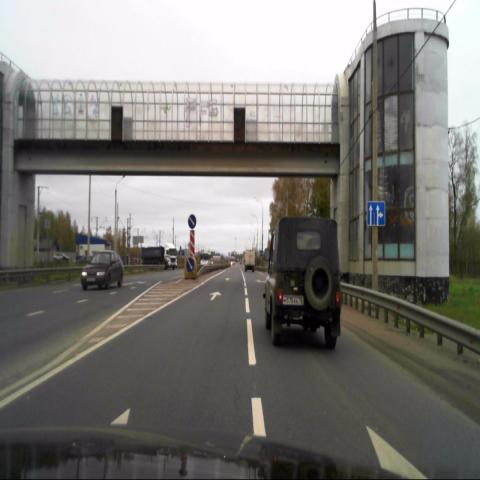4_2_1: (186, 256, 195, 272), (188, 214, 196, 228)
5_15_2_2: (367, 201, 385, 225)
